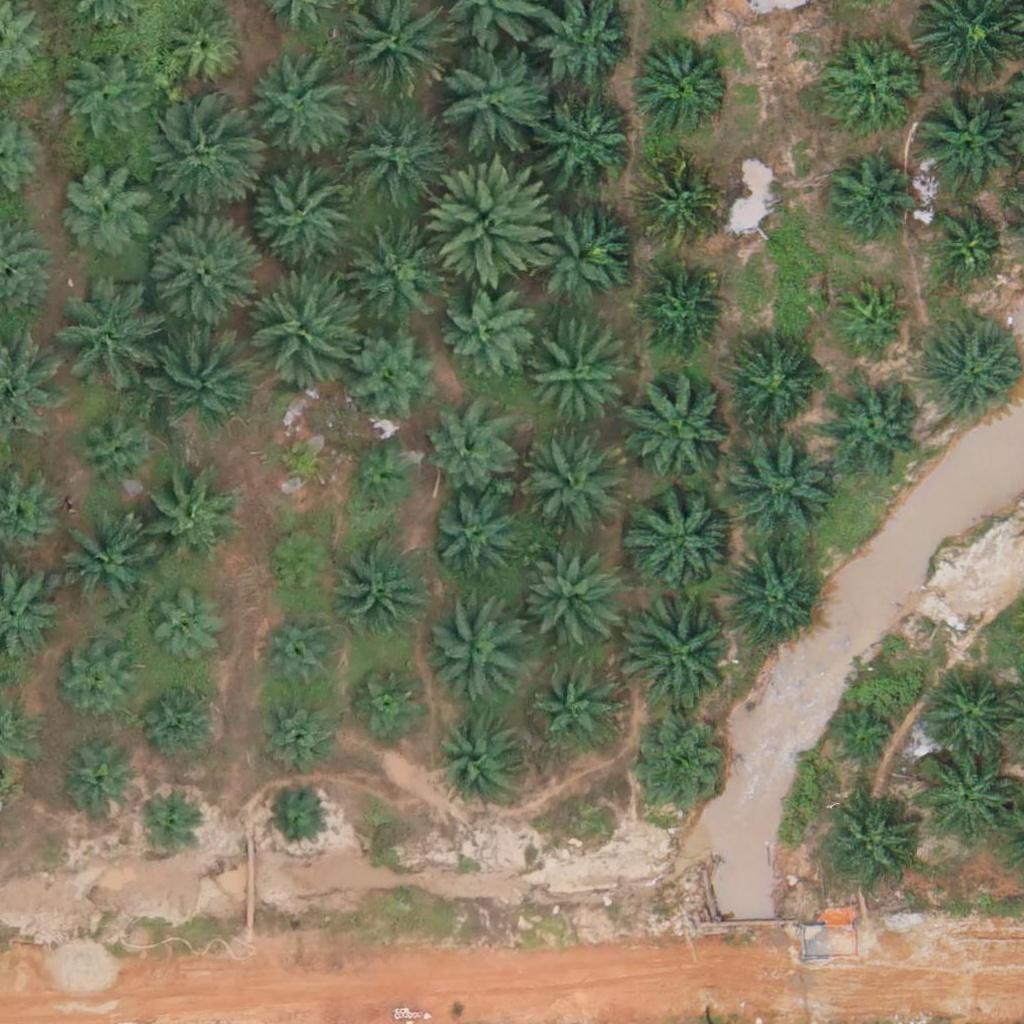Kelapa_Sawit: (431, 161, 556, 287), (433, 39, 546, 153), (722, 427, 835, 540), (623, 371, 736, 484), (627, 482, 740, 595), (339, 99, 452, 212), (246, 154, 359, 267), (143, 215, 256, 328), (143, 317, 255, 431), (626, 594, 738, 707), (239, 55, 351, 168), (244, 272, 356, 385), (141, 106, 253, 219), (913, 90, 1013, 191), (919, 667, 1019, 768), (721, 548, 821, 649), (821, 793, 921, 894), (633, 32, 733, 133), (629, 721, 729, 822), (540, 91, 640, 192), (526, 328, 626, 429), (521, 440, 621, 541), (517, 548, 617, 649), (343, 220, 443, 321), (345, 321, 445, 422), (137, 469, 237, 570), (51, 518, 151, 619), (51, 290, 151, 391), (336, 535, 436, 636), (921, 325, 1021, 425), (914, 747, 1014, 847), (824, 33, 924, 133), (827, 378, 927, 478), (525, 198, 625, 298), (428, 600, 528, 700), (58, 156, 158, 256), (821, 150, 909, 238), (732, 345, 820, 433), (632, 156, 720, 244), (425, 408, 513, 496), (250, 691, 338, 779), (158, 5, 246, 93), (72, 407, 160, 495), (428, 495, 515, 584), (58, 55, 145, 144), (635, 264, 722, 352), (535, 666, 622, 754), (437, 715, 524, 803), (443, 288, 530, 376), (260, 610, 347, 698), (143, 593, 218, 669), (145, 681, 220, 757), (344, 441, 419, 517), (833, 281, 908, 357), (263, 528, 338, 604), (351, 663, 426, 738), (63, 648, 138, 723), (61, 748, 136, 823), (928, 207, 1003, 282), (827, 705, 902, 780), (134, 789, 197, 852), (267, 785, 329, 848), (270, 429, 332, 492)
